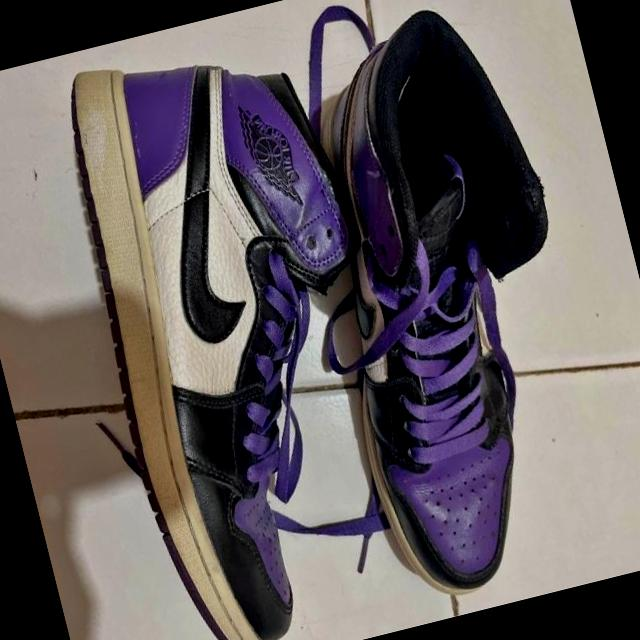nike_original_jordan: (41, 28, 450, 640), (263, 0, 637, 605)
